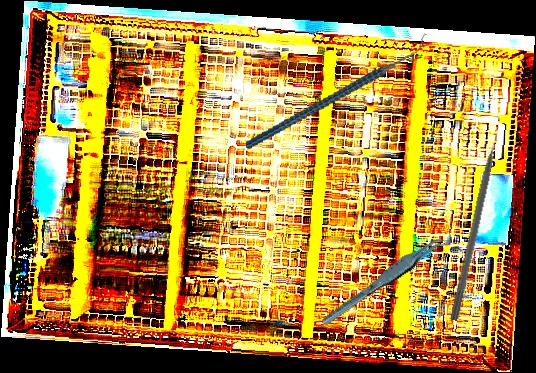Chopper: (232, 32, 441, 150)
Pusher: (449, 121, 506, 322)
Tissue Forceps: (312, 233, 459, 327)
